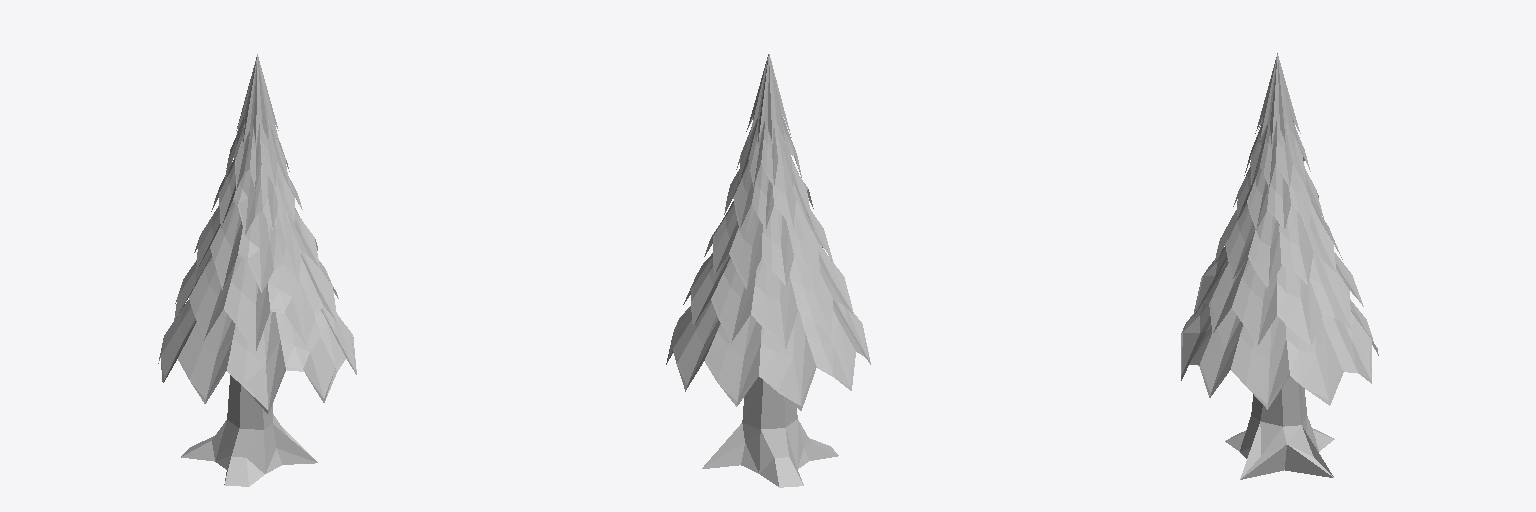
Rendered from Pinetree11.obj.
3 renders of one model, left to right at view 1: azimuth 30°, elevation 25°; view 2: azimuth 150°, elevation 25°; view 3: azimuth 270°, elevation 25°, orthographic.
Visible parts, largest first — view 1: Pinetree11; view 2: Pinetree11; view 3: Pinetree11.
Boxes of the visible parts, x1,y1,x2,y2 form: Pinetree11: [158, 54, 356, 486]; Pinetree11: [666, 54, 870, 487]; Pinetree11: [1181, 53, 1378, 479].
Bounding box in the file's own units: 1.72 × 3.76 × 1.66.